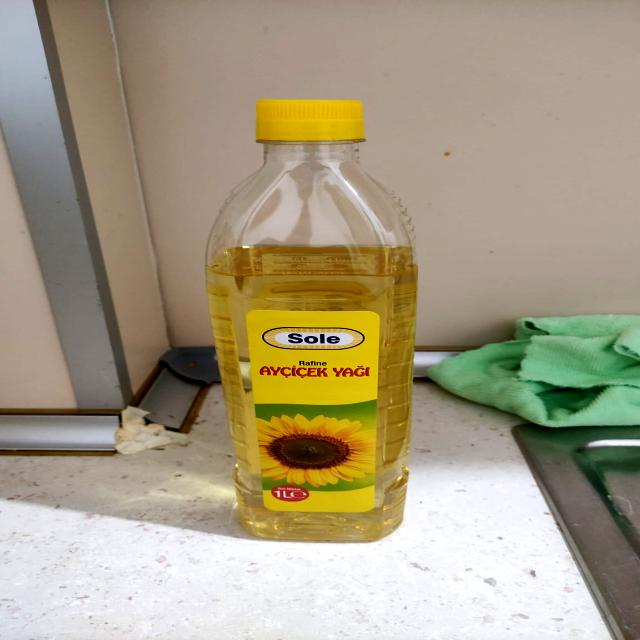olive oil: (161, 88, 453, 544)
